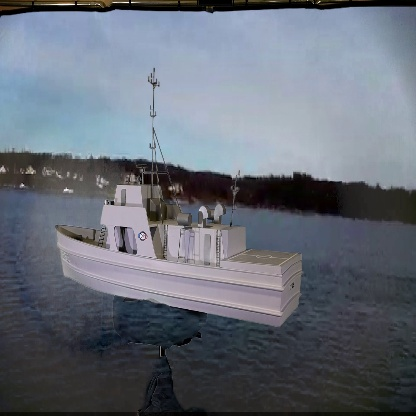YP689: (55, 66, 303, 330)
